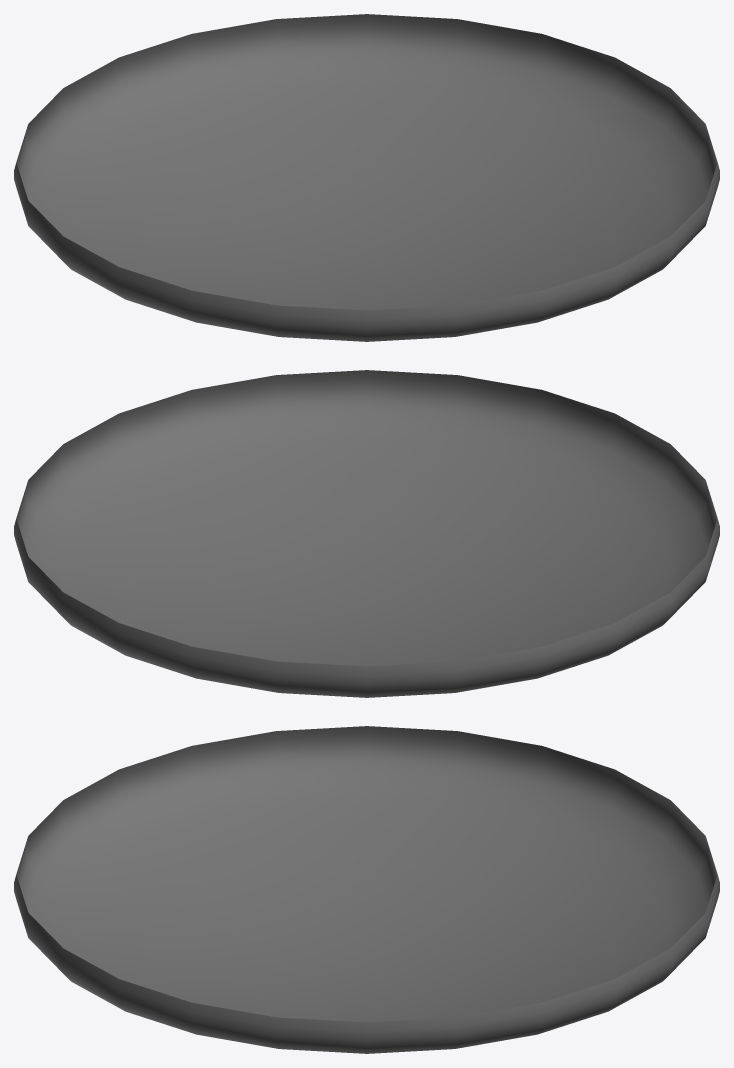
Rendered from alnair_heatshield_s2_1.obj.
The picture shows the model from 3 angles, top to bottom: view 1: azimuth 30°, elevation 25°; view 2: azimuth 150°, elevation 25°; view 3: azimuth 270°, elevation 25°; orthographic projection.
Parts seen in each view (by area): view 1: mesh1; view 2: mesh1; view 3: mesh1.
Part boxes in pixels (x1,y1,x2,y2): mesh1: (14, 14, 719, 341); mesh1: (14, 370, 719, 697); mesh1: (14, 726, 719, 1053).
Bounding box in the file's own units: 2.52 × 0.3736 × 2.52.
1 material, 1 textured.
